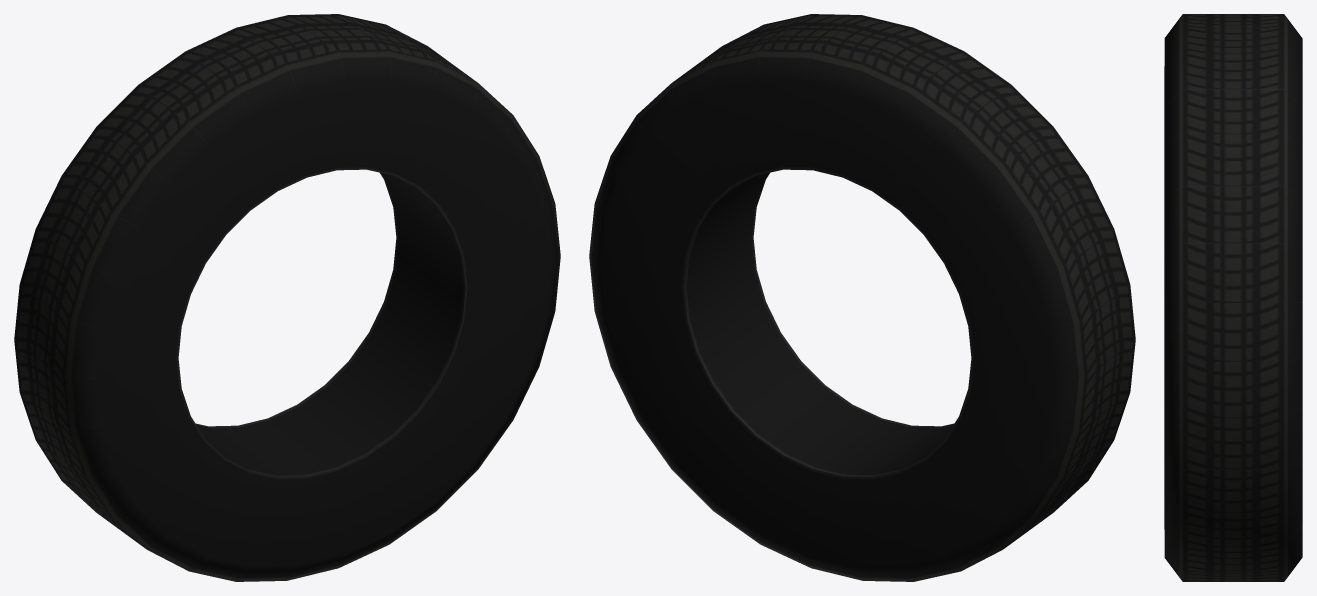
The model's file is Tire.fbx.
3 views of the same model, side by side, from view 1: azimuth 30°, elevation 25°; view 2: azimuth 150°, elevation 25°; view 3: azimuth 270°, elevation 25° (orthographic).
Parts seen in each view (by area): view 1: Tire; view 2: Tire; view 3: Tire.
Boxes of the visible parts, bbox=[...] form: Tire: bbox=[14, 14, 560, 581]; Tire: bbox=[589, 14, 1135, 581]; Tire: bbox=[1164, 14, 1302, 581].
Size of the model in its own units: 97.83 by 97.29 by 23.68.
